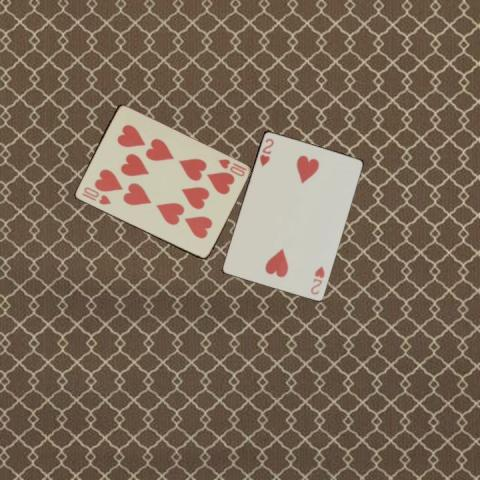10h: (79, 184, 112, 206), (215, 156, 247, 178)
2h: (307, 263, 326, 296), (257, 136, 275, 168)
